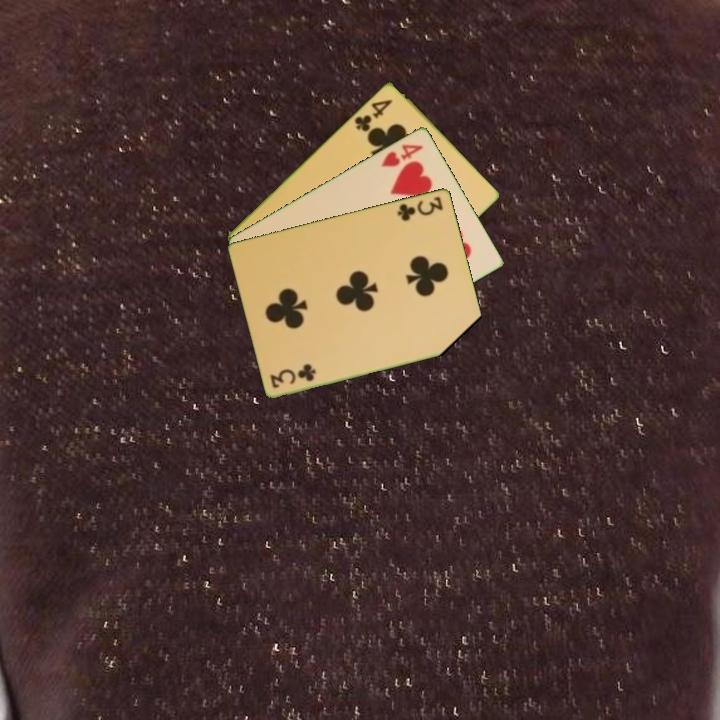3c: (394, 193, 446, 224), (267, 361, 319, 391)
4c: (351, 95, 396, 134)
4h: (378, 140, 426, 170)
